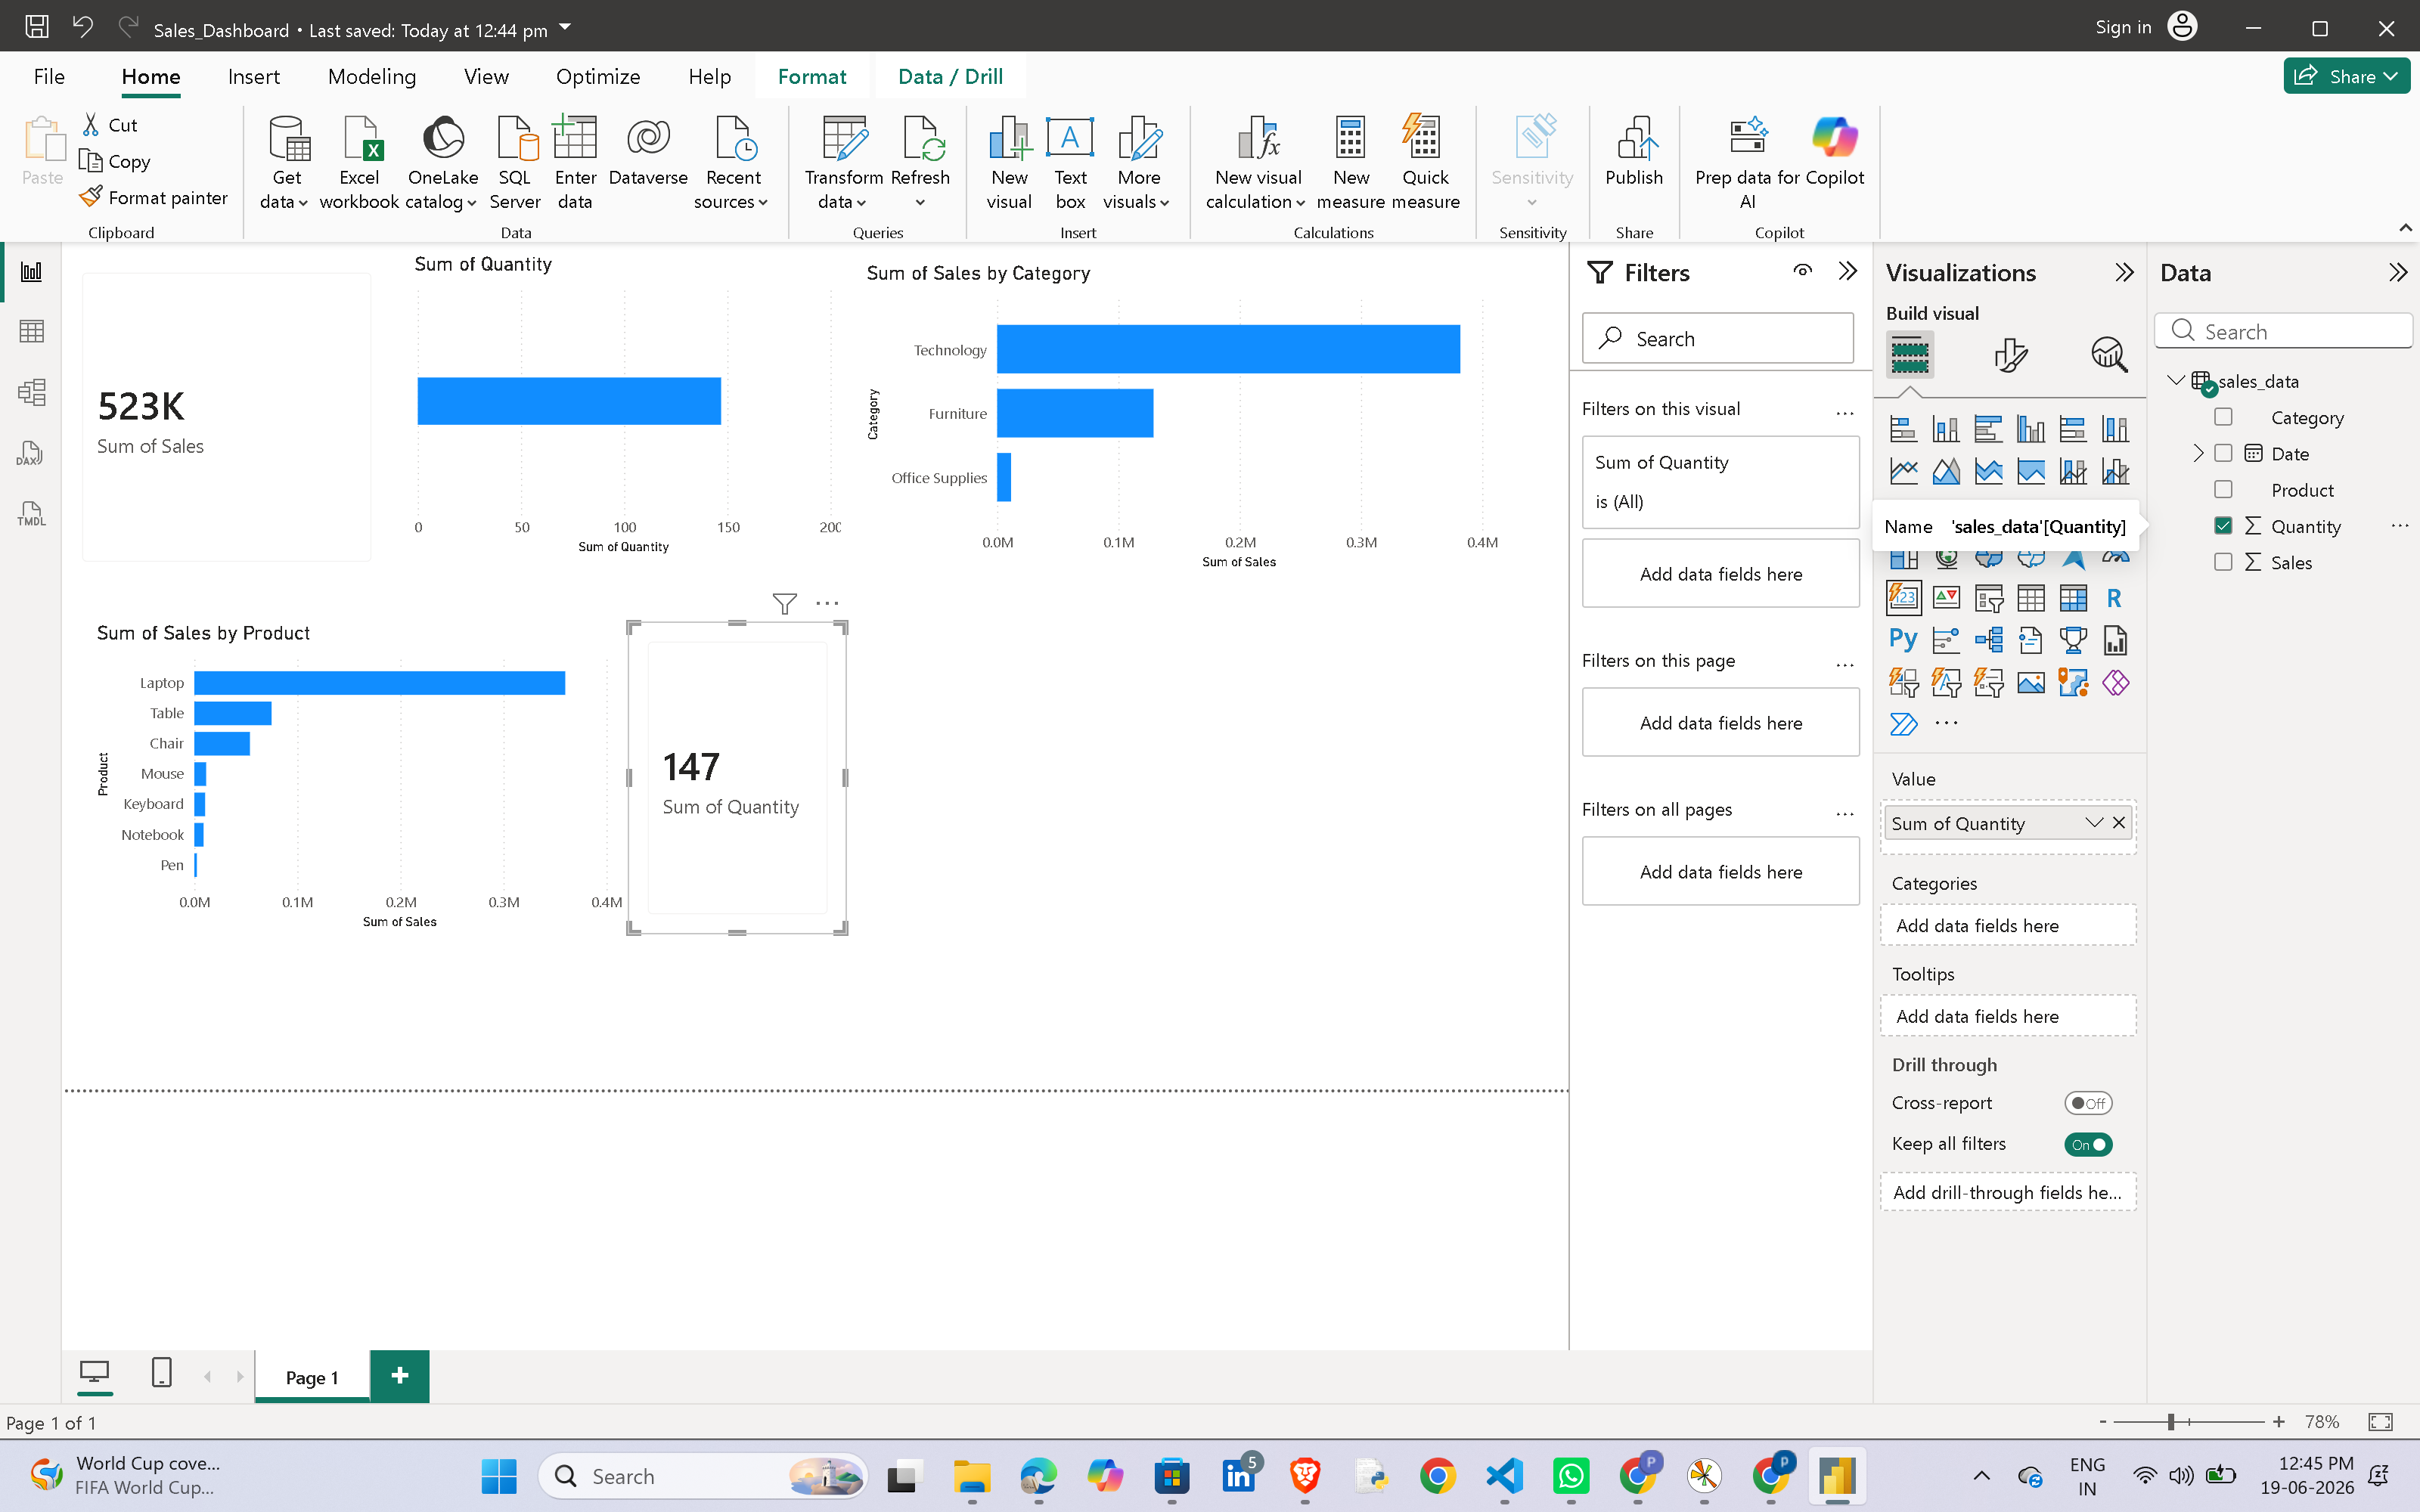

Layout of this report page (visuals, bound fields, positions):
{"tool":"powerbi","page":{"name":"Page 1","canvas":[1280,720],"ordinal":0},"visuals":[{"type":"cardVisual","fields":{"Data":["Sum(sales_data.Sales)"]},"box":[0,9,280.2,280.2],"z":0},{"type":"clusteredBarChart","fields":{"Y":["Sum(sales_data.Quantity)"]},"box":[294.3,9,372.7,260.9],"z":1},{"type":"clusteredBarChart","fields":{"Category":["sales_data.Category"],"Y":["Sum(sales_data.Sales)"]},"box":[678.6,16.7,546.2,266],"z":2},{"type":"clusteredBarChart","fields":{"Category":["sales_data.Product"],"Y":["Sum(sales_data.Sales)"]},"box":[24.4,322.6,456.2,266],"z":3},{"type":"cardVisual","fields":{"Data":["Sum(sales_data.Quantity)"]},"box":[480,323,187,266],"z":4}]}

Visuals, with their boxes on the page's 1280x720 design canvas (x1, y1, x2, y2). These are canvas units, not pixel positions in the 2420x1512 screenshot, which may show the page scaled, cropped or inside an application window:
cardVisual - Sum(sales_data.Sales): select_region(0, 9, 280, 289)
clusteredBarChart - Sum(sales_data.Quantity): select_region(294, 9, 667, 270)
clusteredBarChart - sales_data.Category x Sum(sales_data.Sales): select_region(679, 17, 1225, 283)
clusteredBarChart - sales_data.Product x Sum(sales_data.Sales): select_region(24, 323, 481, 589)
cardVisual - Sum(sales_data.Quantity): select_region(480, 323, 667, 589)
